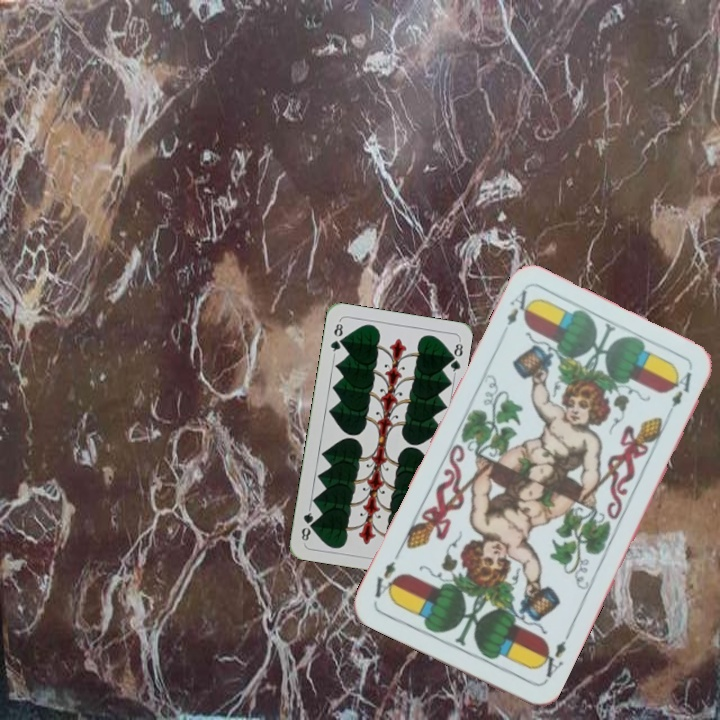EA: (532, 630, 573, 685), (502, 286, 536, 328)
G8: (326, 317, 345, 358)
